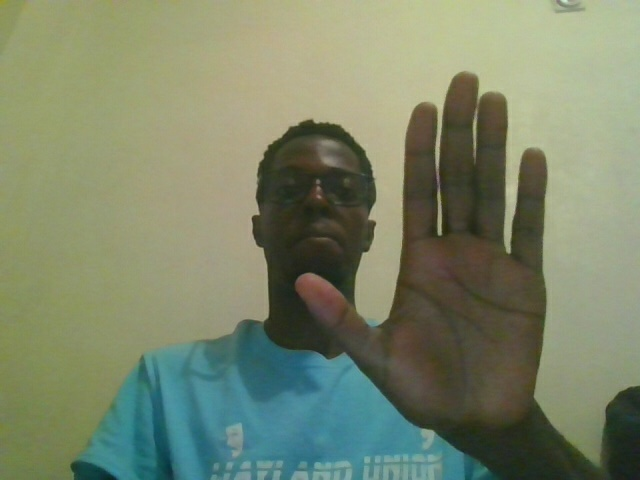hello: (288, 49, 630, 480)
